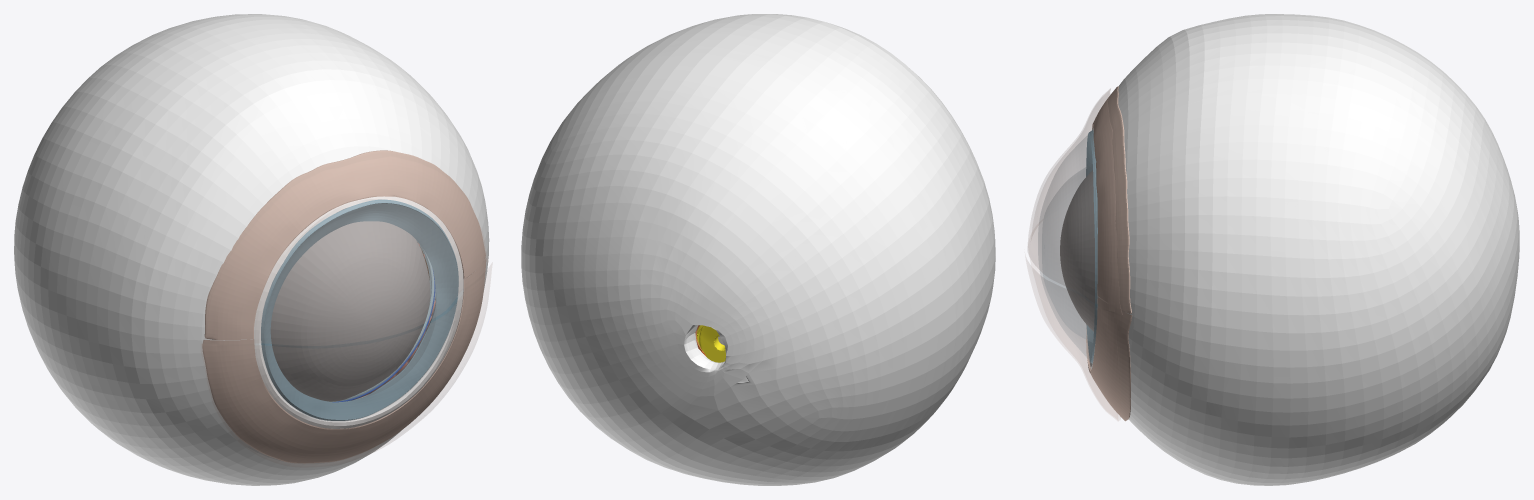
The picture shows the model from 3 angles, left to right: view 1: azimuth 30°, elevation 25°; view 2: azimuth 150°, elevation 25°; view 3: azimuth 270°, elevation 25°; orthographic projection.
Parts seen in each view (by area): view 1: VH_M_sclera_L, VH_M_palpebral_conjunctiva_of_upper_eyelid_L, VH_M_cornea_L, VH_M_bulbar_conjunctiva_L, VH_M_palpebral_conjunctiva_of_lower_eyelid_L, VH_M_aqueous_humor_L, VH_M_corneo_scleral_junction_L, VH_M_trabecular_meshwork_L; view 2: VH_M_sclera_L, VH_M_optic_disc_L; view 3: VH_M_sclera_L, VH_M_palpebral_conjunctiva_of_upper_eyelid_L, VH_M_bulbar_conjunctiva_L, VH_M_cornea_L, VH_M_palpebral_conjunctiva_of_lower_eyelid_L, VH_M_aqueous_humor_L, VH_M_corneo_scleral_junction_L.
Boxes of the visible parts, left/top/right/bottom form: VH_M_sclera_L: left=14, top=14, right=489, bottom=485; VH_M_palpebral_conjunctiva_of_upper_eyelid_L: left=204, top=157, right=488, bottom=345; VH_M_cornea_L: left=261, top=201, right=458, bottom=420; VH_M_bulbar_conjunctiva_L: left=202, top=150, right=486, bottom=463; VH_M_palpebral_conjunctiva_of_lower_eyelid_L: left=201, top=264, right=491, bottom=466; VH_M_aqueous_humor_L: left=270, top=221, right=430, bottom=401; VH_M_corneo_scleral_junction_L: left=261, top=199, right=458, bottom=420; VH_M_trabecular_meshwork_L: left=328, top=240, right=435, bottom=401; VH_M_sclera_L: left=521, top=14, right=995, bottom=485; VH_M_optic_disc_L: left=699, top=325, right=725, bottom=362; VH_M_sclera_L: left=1089, top=14, right=1519, bottom=485; VH_M_palpebral_conjunctiva_of_upper_eyelid_L: left=1028, top=89, right=1121, bottom=314; VH_M_bulbar_conjunctiva_L: left=1086, top=86, right=1132, bottom=421; VH_M_cornea_L: left=1038, top=131, right=1097, bottom=362; VH_M_palpebral_conjunctiva_of_lower_eyelid_L: left=1026, top=228, right=1120, bottom=420; VH_M_aqueous_humor_L: left=1060, top=170, right=1094, bottom=331; VH_M_corneo_scleral_junction_L: left=1086, top=130, right=1097, bottom=363.
Size of the model in its own units: 0.0245 by 0.0244 by 0.0257.
